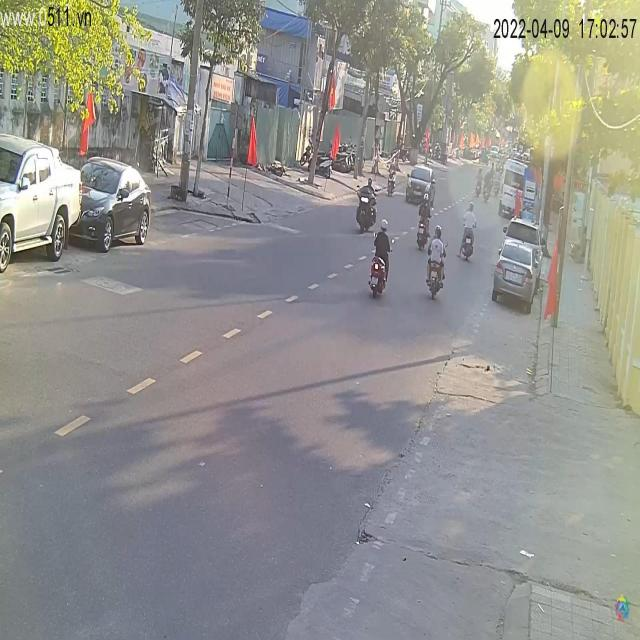car: (1, 132, 84, 278), (75, 158, 156, 253), (491, 242, 543, 316), (406, 167, 435, 207)
motorcycle: (356, 192, 380, 235), (425, 254, 446, 302), (369, 256, 389, 297), (460, 227, 476, 260)
